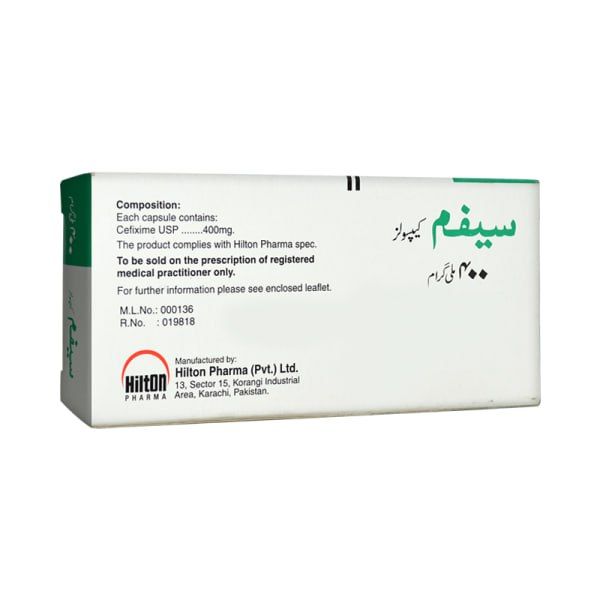Medicine: (57, 162, 552, 433)
